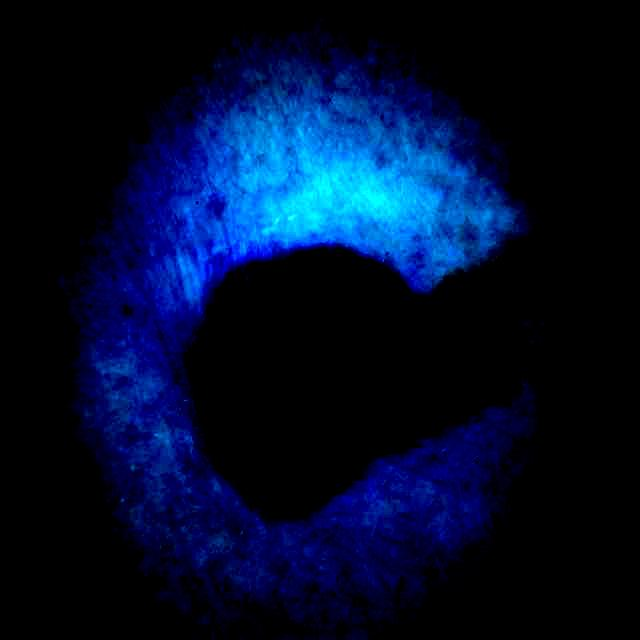BKL: (195, 242, 538, 506)
